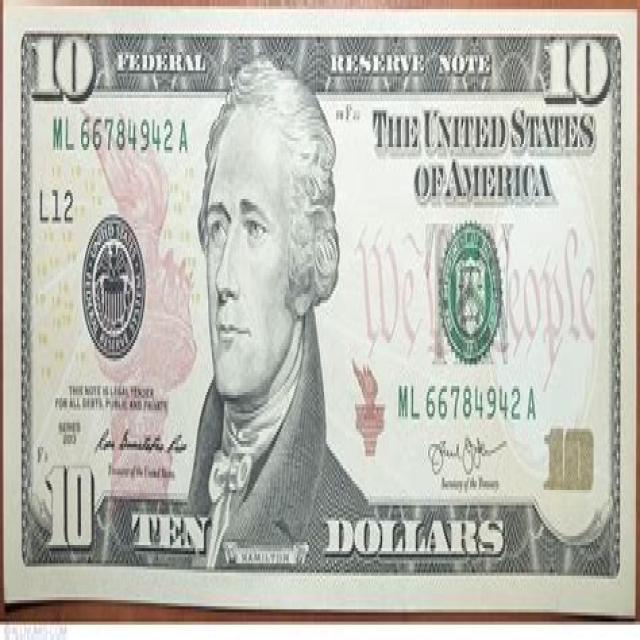Ten: (1, 0, 636, 618)
